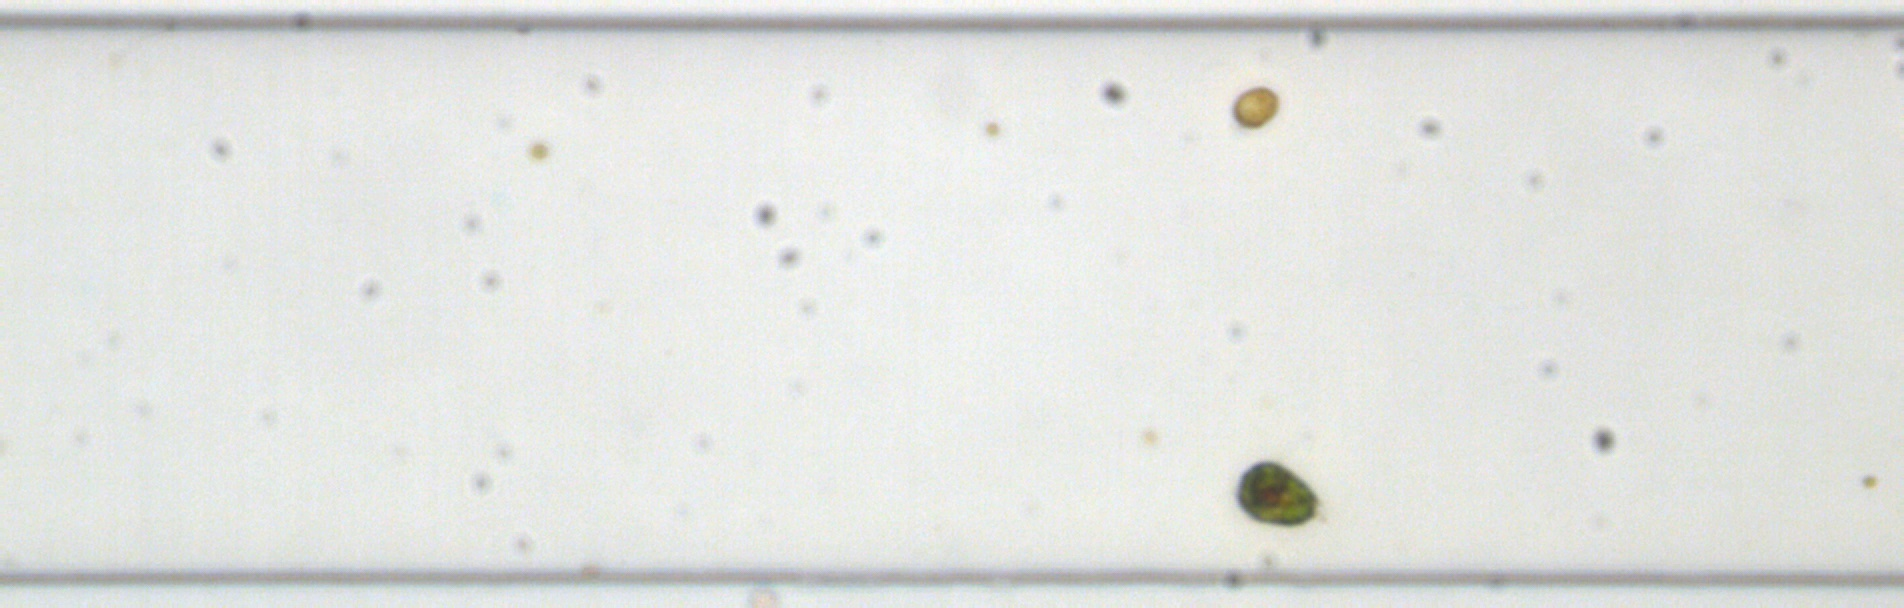Chlorella: (527, 140, 551, 161), (981, 119, 1002, 137), (1860, 473, 1878, 489)
Effrenium: (1228, 83, 1280, 132)
Haematococcus: (1228, 455, 1321, 532)
